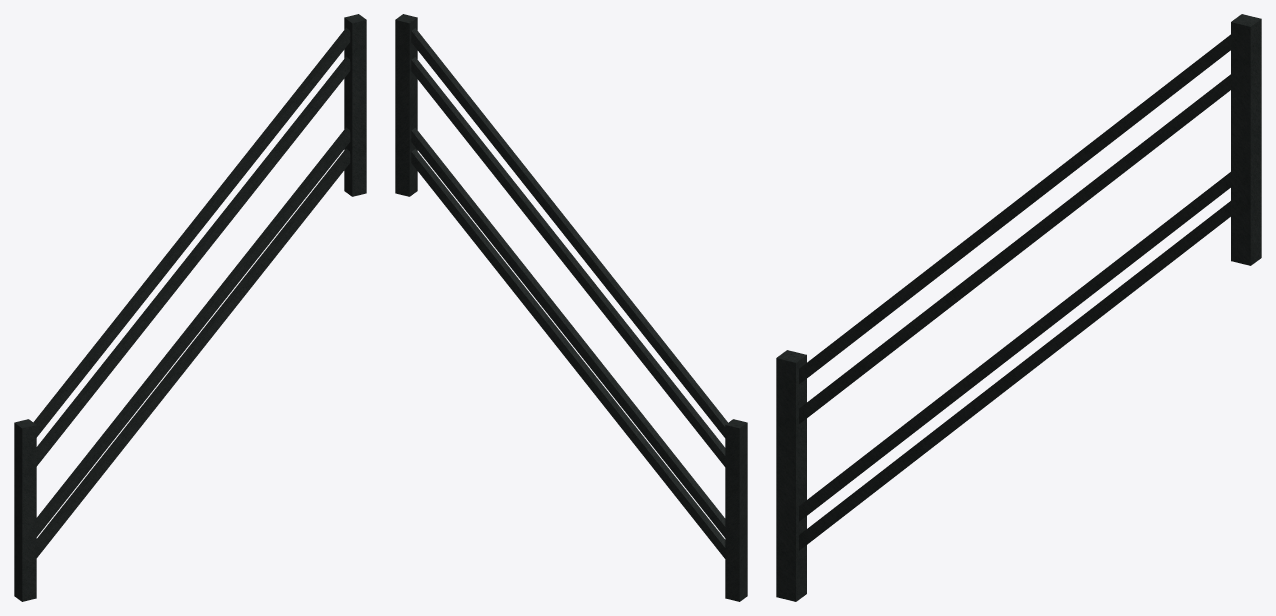
The model's file is BarandaEscalera.fbx.
The picture shows the model from 3 angles, left to right: view 1: azimuth 30°, elevation 25°; view 2: azimuth 150°, elevation 25°; view 3: azimuth 330°, elevation 25°; orthographic projection. The views are drawn at different scales.
Parts seen in each view (by area): view 1: BarandaEscalera; view 2: BarandaEscalera; view 3: BarandaEscalera.
Boxes of the visible parts, left/top/right/bottom form: BarandaEscalera: left=14, top=14, right=366, bottom=601; BarandaEscalera: left=395, top=14, right=747, bottom=601; BarandaEscalera: left=776, top=14, right=1261, bottom=601.
Size of the model in its own units: 197 by 271 by 7.89.
